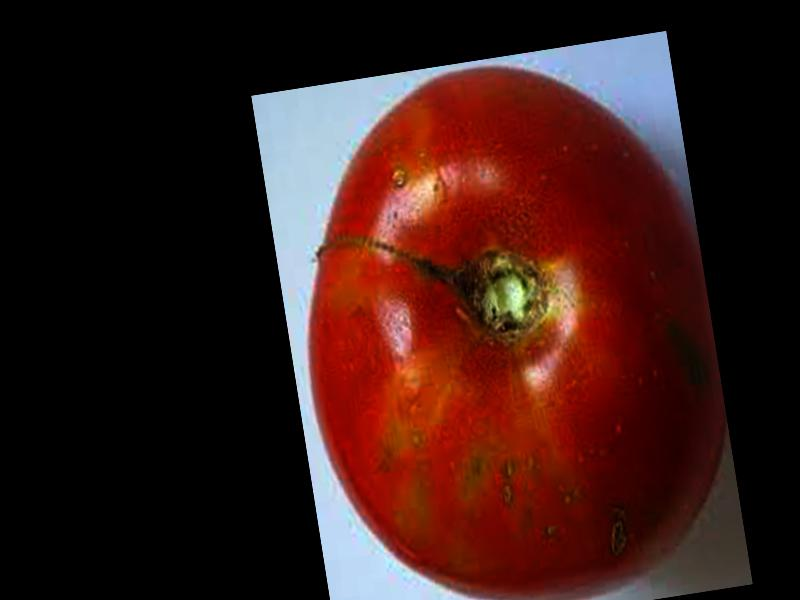Tomato: (267, 36, 748, 600)
